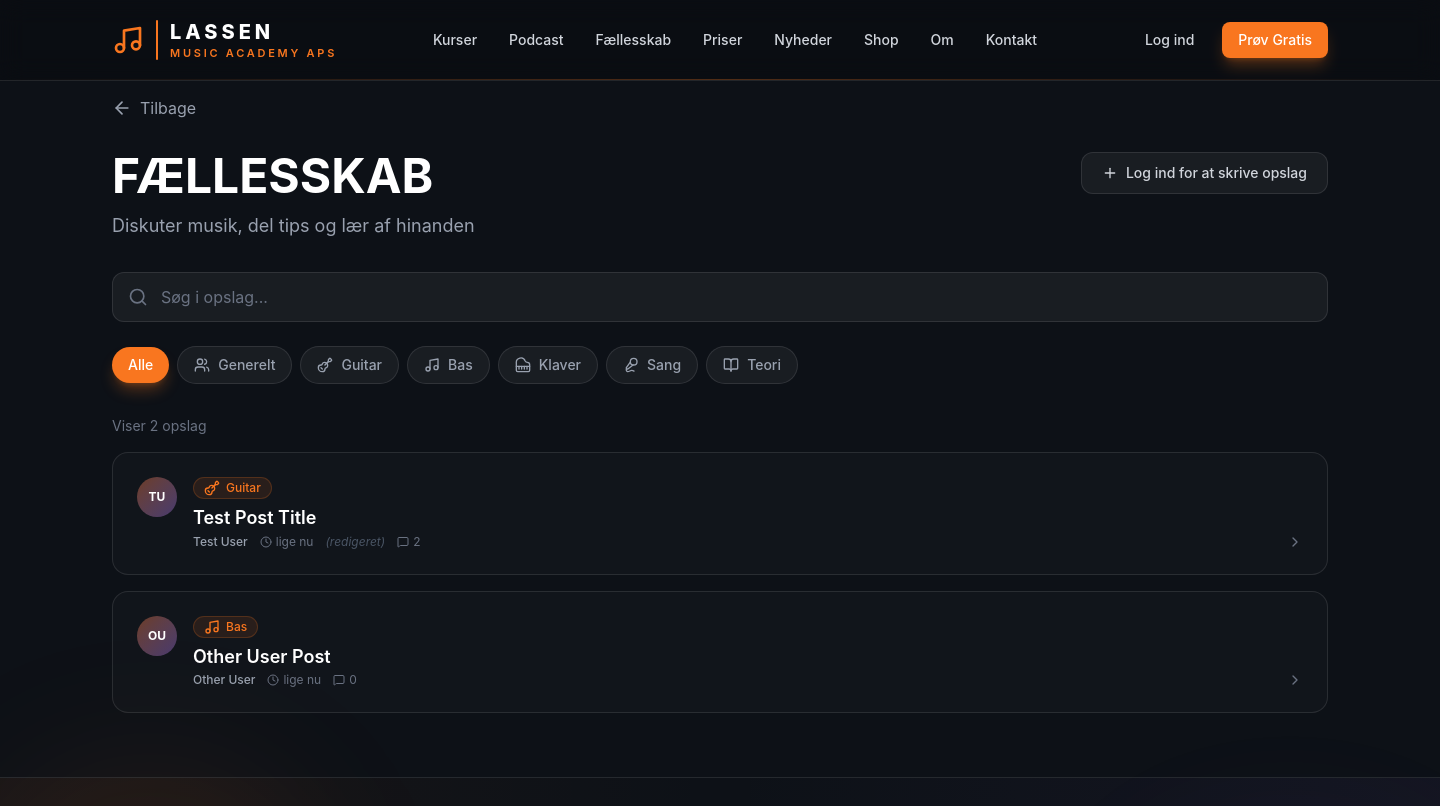
Test: Community Page › Search and Filter › filters posts by category
Expected: the heading "Test Post Title" is shown, [193,507,316,528]
Step 1. Click the button "Bas" → point(448, 365), box [407,346,490,384]
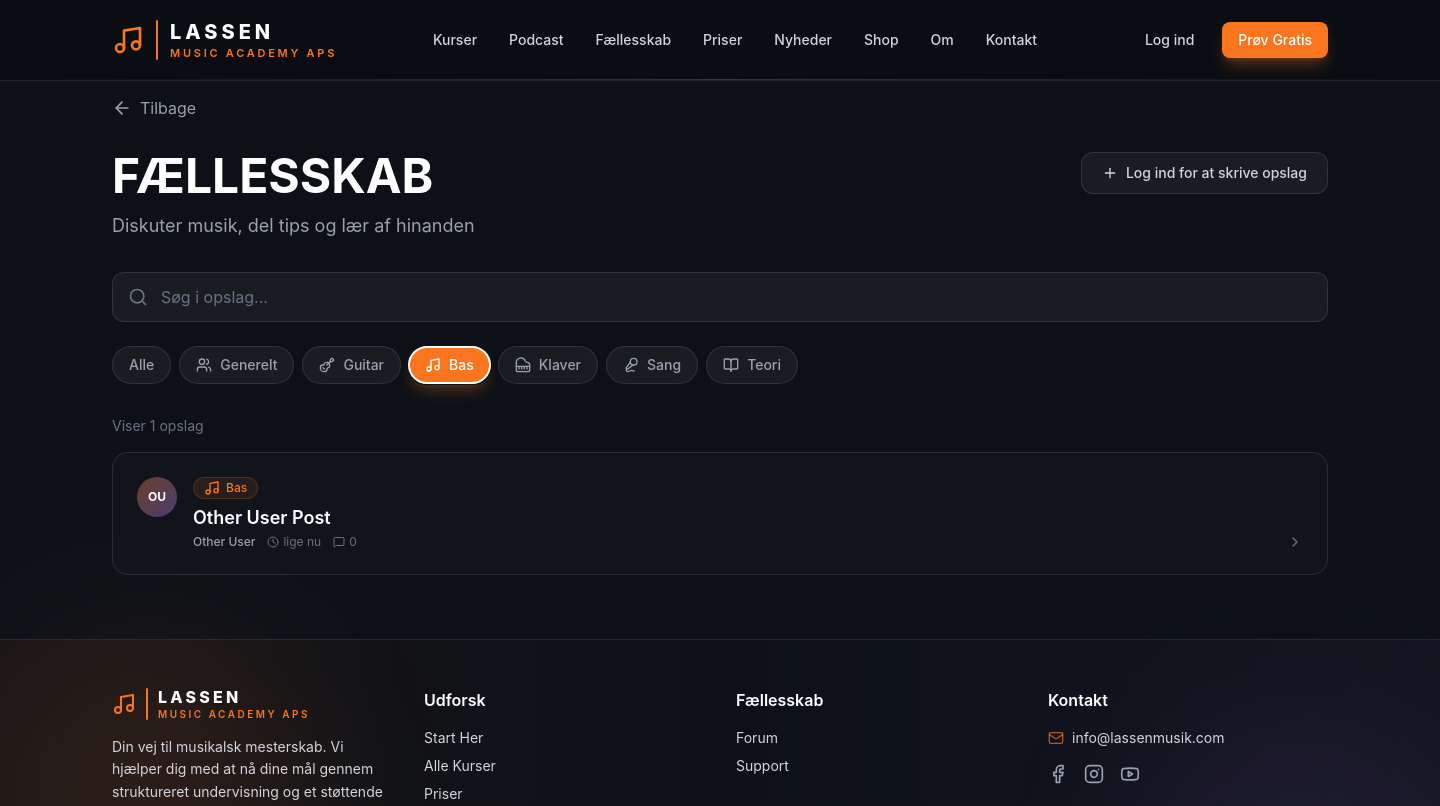
Expected: the heading "Other User Post" is shown, [193,507,331,528]
Expected: the button "Test Post Title" is gone
